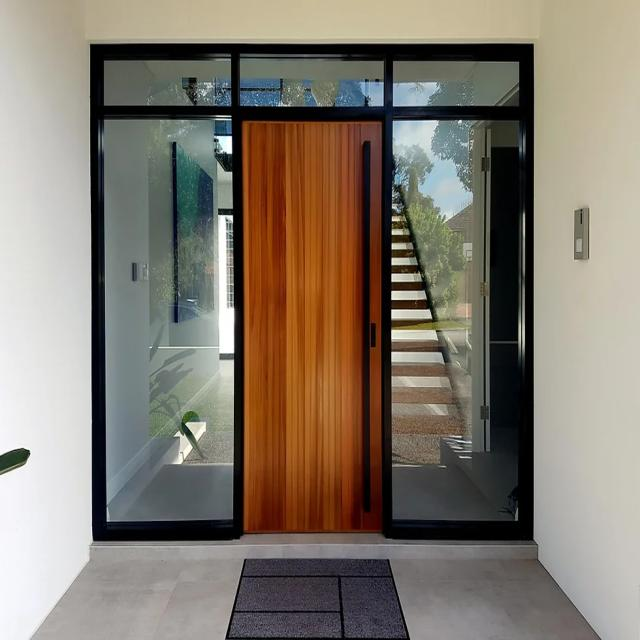ClosedDoor: (236, 111, 390, 543)
